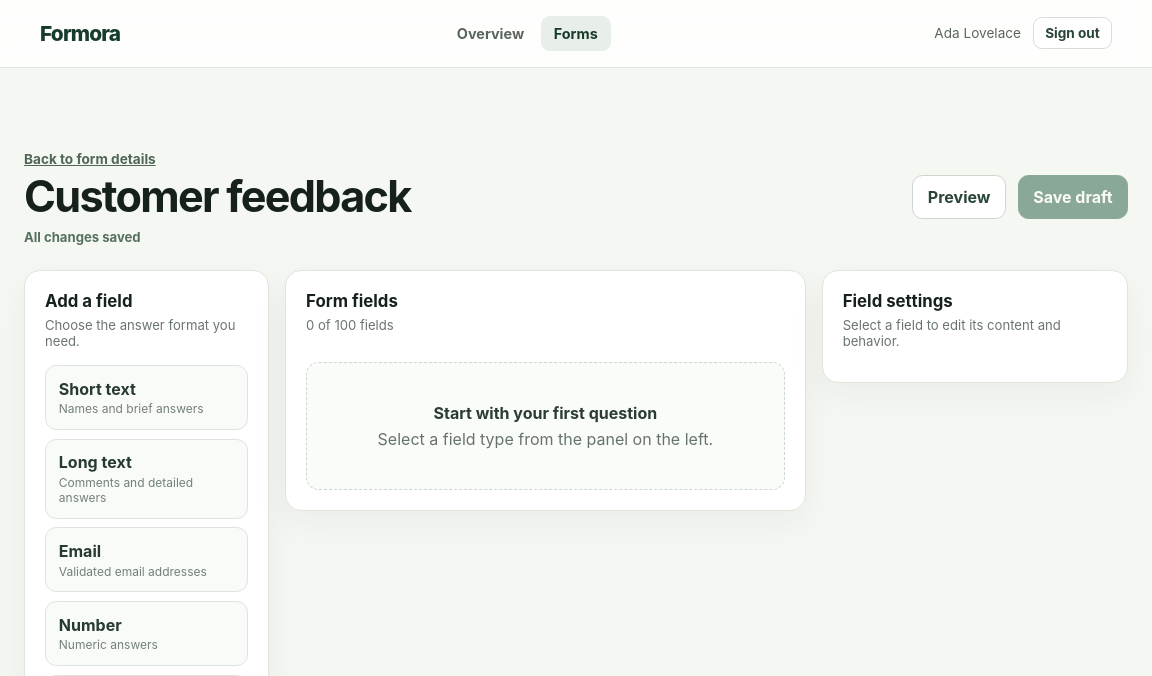
application routes › builds, reorders, and saves a form draft
Expected: the heading "Customer feedback" is shown, [24, 173, 411, 221]
Step 1. Click the button "Short text Names and brief answers" → click(146, 397), box [45, 365, 248, 430]
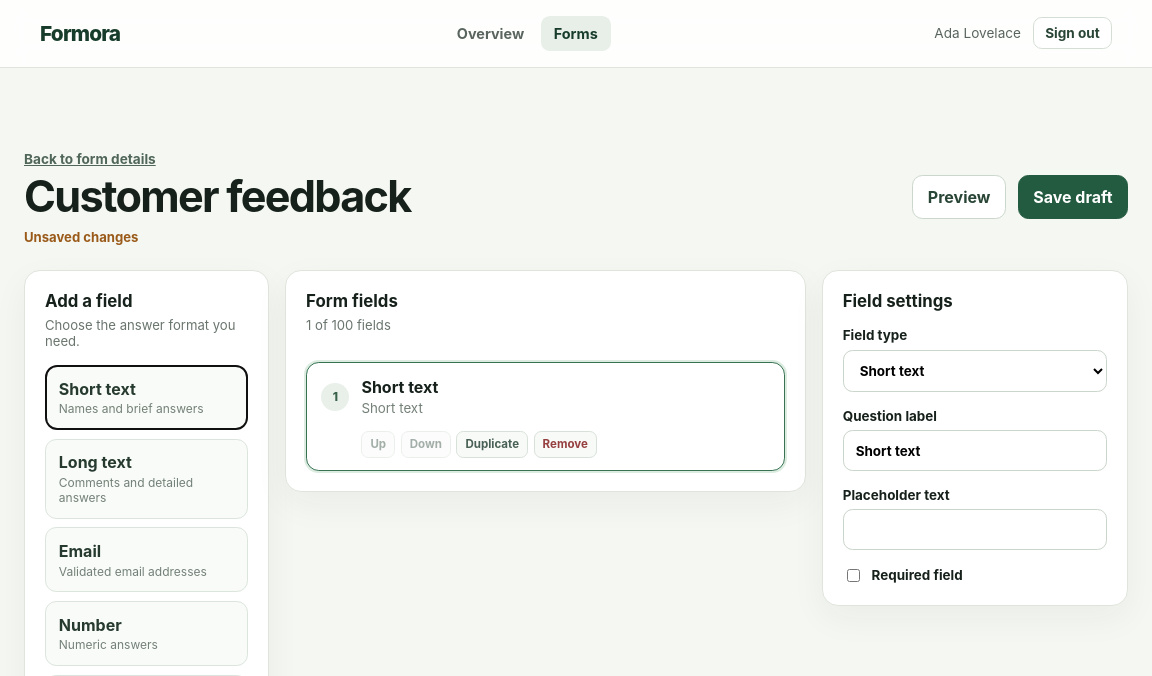
Step 2. Click the button "Email Validated email addresses" → click(146, 560), box [45, 528, 248, 592]
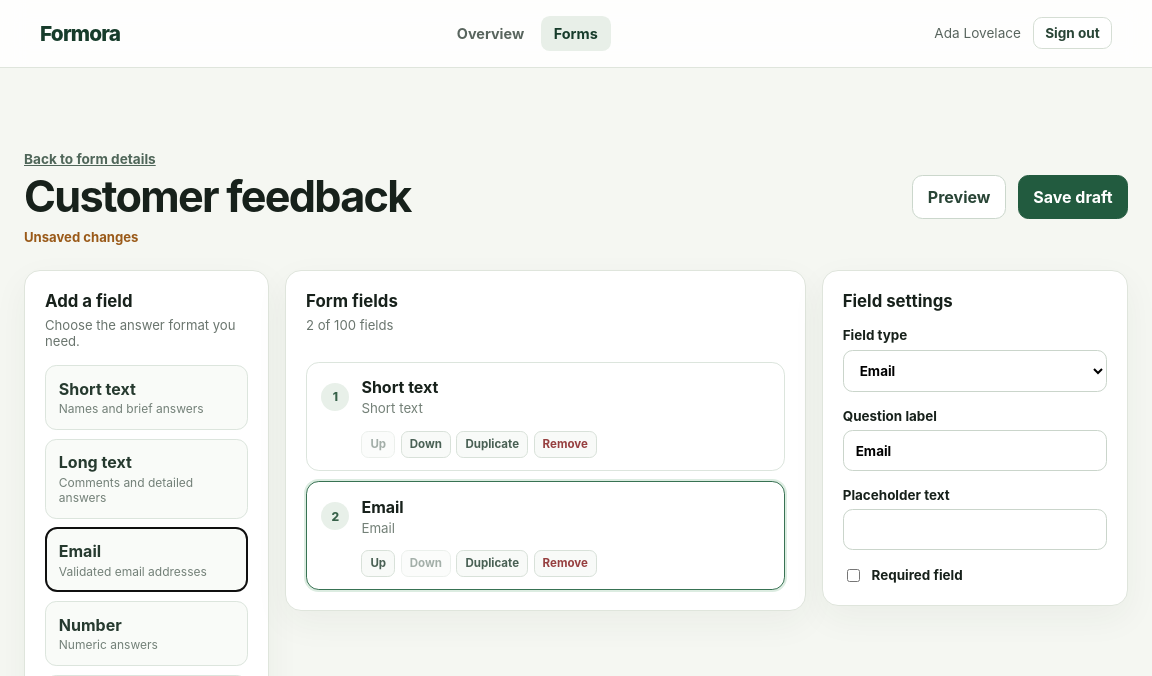
Step 3. Replace the text in the field labelled "Question label" with "Work email" → (975, 451), box [843, 430, 1107, 471]
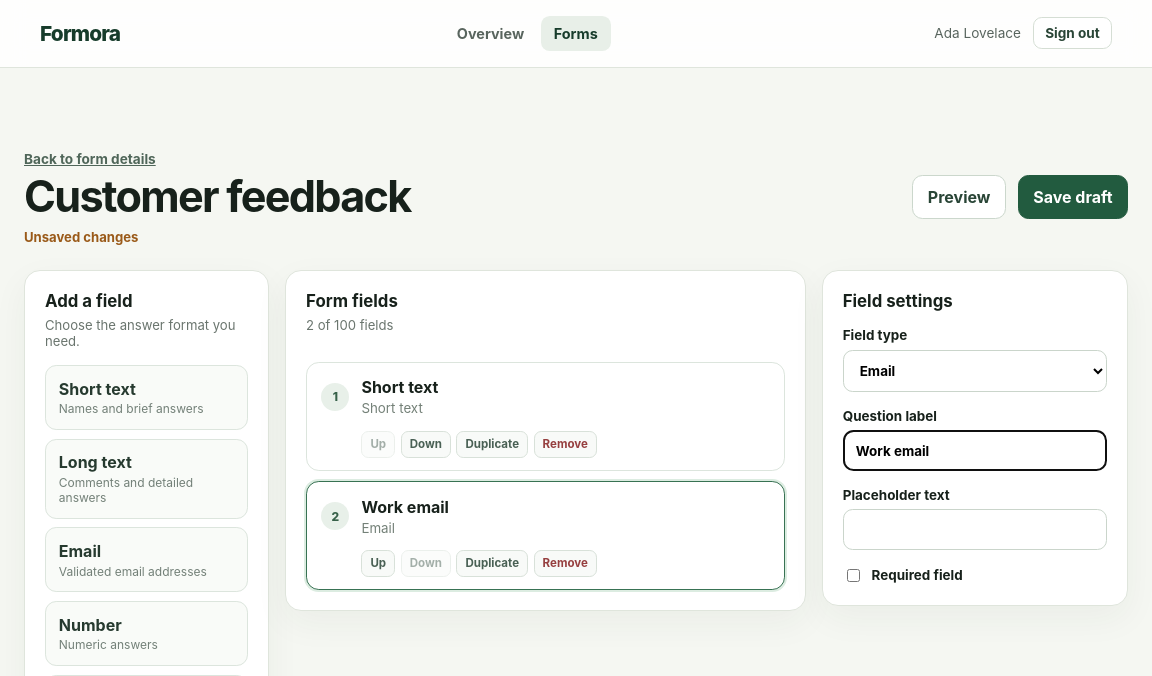
Step 4. Click the 2nd button titled "Move up" → click(378, 564), box [361, 550, 395, 577]
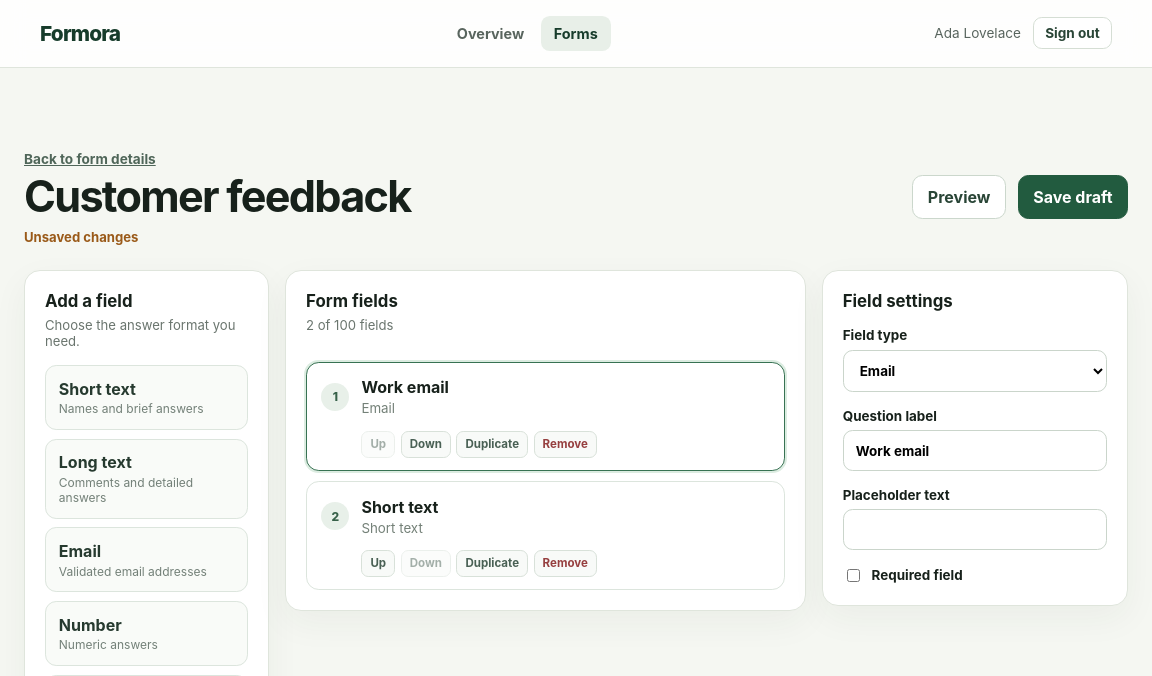
Step 5. Click the button "Save draft" → click(1073, 197), box [1018, 174, 1128, 219]
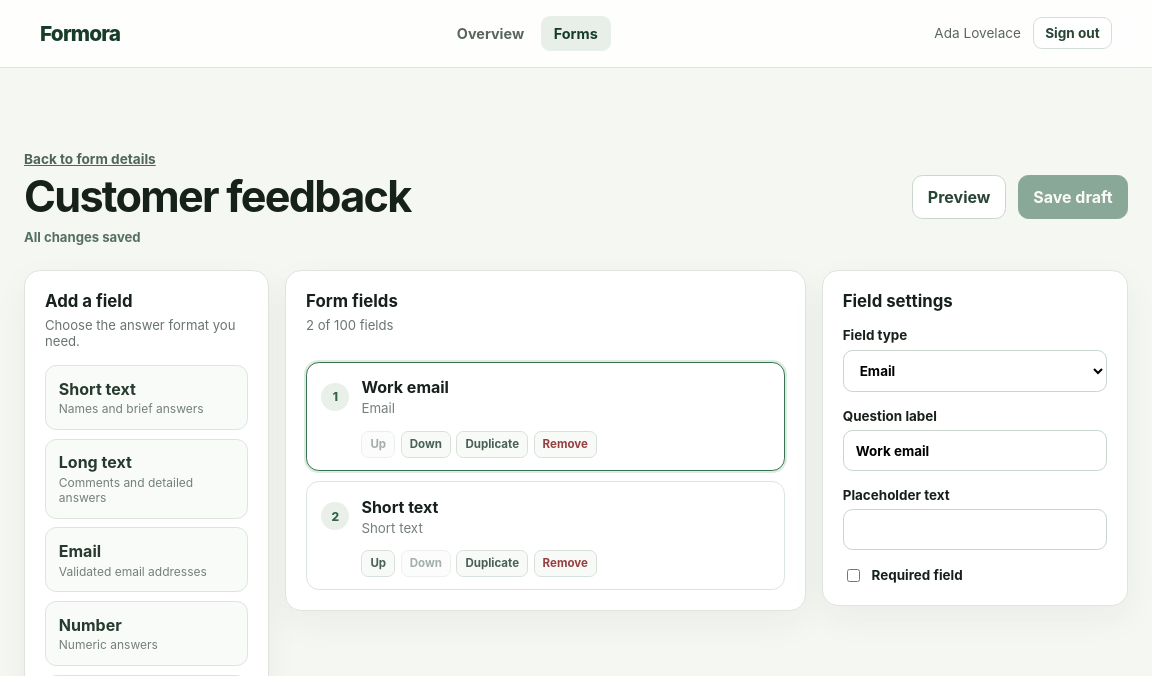
Now the text "All changes saved" is shown, box [24, 229, 141, 245]
